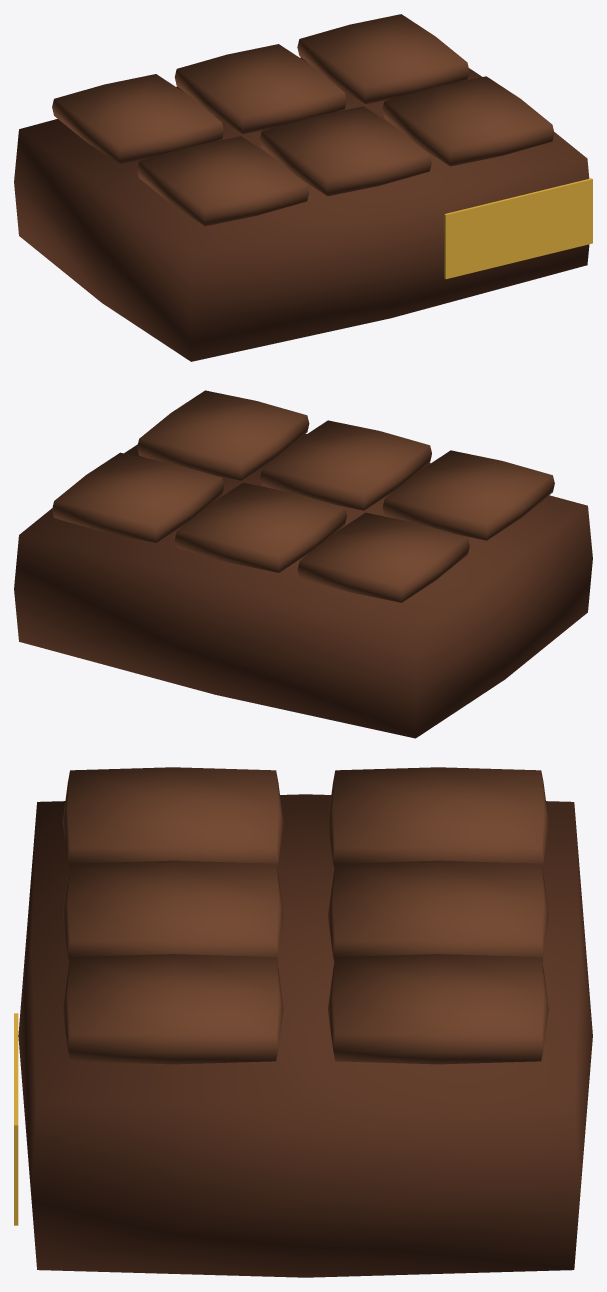
The model's file is chocolate_bar.glb.
3 views of the same model, one above another, from view 1: azimuth 30°, elevation 25°; view 2: azimuth 150°, elevation 25°; view 3: azimuth 270°, elevation 25° (orthographic). The views are drawn at different scales.
Visible parts, largest first — view 1: root; view 2: root; view 3: root.
Part boxes in pixels (bbox=[...]): root: bbox=[14, 14, 592, 361]; root: bbox=[14, 390, 592, 738]; root: bbox=[14, 767, 592, 1277].
Size of the model in its own units: 0.34 by 0.12 by 0.262.
